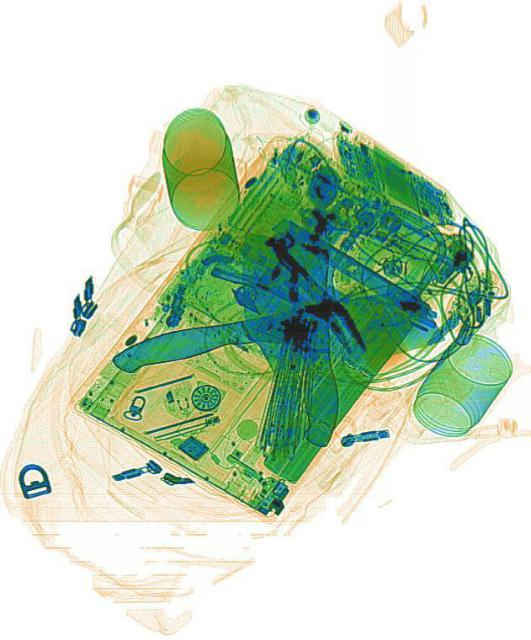Knife: (107, 280, 444, 402), (240, 227, 337, 448)
